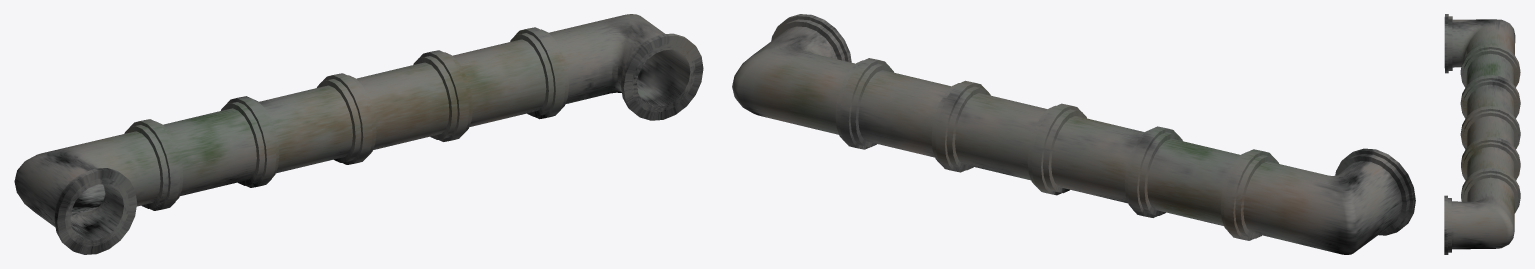
The model's file is ConnectorPipe 1.fbx.
The picture shows the model from 3 angles, left to right: view 1: azimuth 30°, elevation 25°; view 2: azimuth 150°, elevation 25°; view 3: azimuth 270°, elevation 25°; orthographic projection. The views are drawn at different scales.
Parts seen in each view (by area): view 1: ConnectorPipe; view 2: ConnectorPipe; view 3: ConnectorPipe.
Boxes of the visible parts, x1=… form: ConnectorPipe: x1=14, y1=14, x2=703, y2=254; ConnectorPipe: x1=732, y1=14, x2=1415, y2=254; ConnectorPipe: x1=1444, y1=14, x2=1520, y2=254.
Bounding box in the file's own units: 0.201 × 0.0259 × 0.0318.
1 material, 1 textured.
